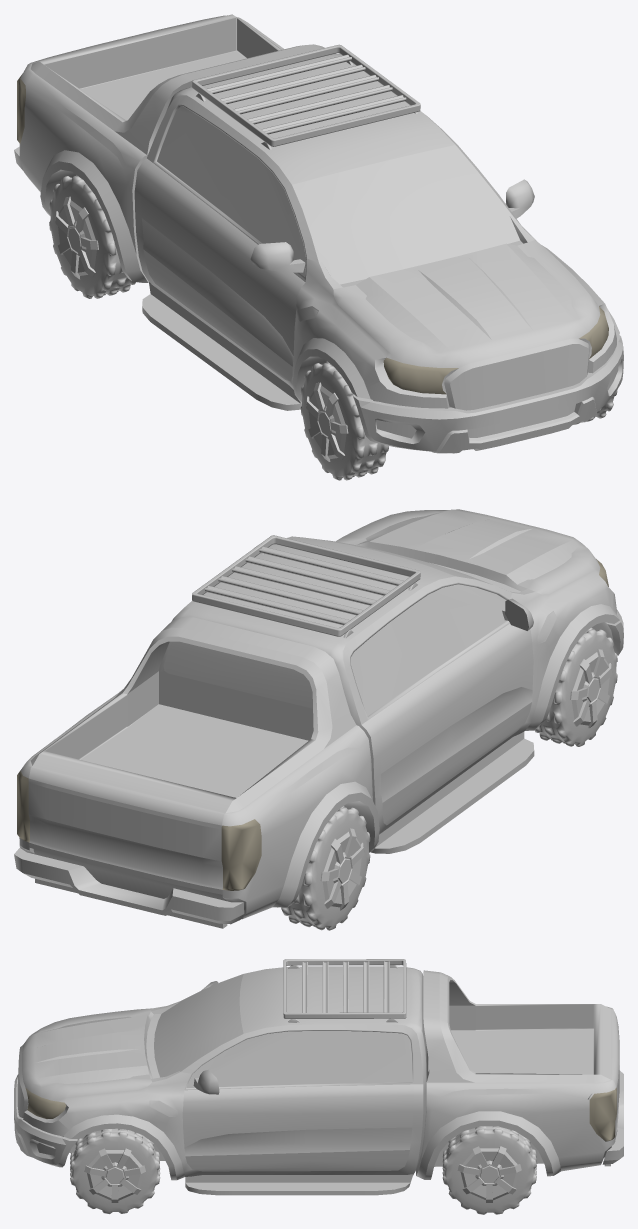
Rendered from traffic-Ford.obj.
3 views of the same model, one above another, from view 1: azimuth 30°, elevation 25°; view 2: azimuth 150°, elevation 25°; view 3: azimuth 270°, elevation 25° (orthographic). The views are drawn at different scales.
Visible parts, largest first — view 1: Body_Ford_Raptor_BASE__0, Front_bumper_Ford_Raptor_BASE__0.002, Extra_Cylinder.001, Rear_Right_Wheel_Plane.001, Front_Right_Wheel_Plane.003, Front_light_Ford_Raptor_BASE__0.006; view 2: Body_Ford_Raptor_BASE__0, Extra_Cylinder.001, Rear_Right_Wheel_Plane.001, Front_Right_Wheel_Plane.003, Rear_Bumper_Ford_Raptor_BASE__0.001, Rear_light_Ford_Raptor_BASE__0.007, Front_bumper_Ford_Raptor_BASE__0.002; view 3: Body_Ford_Raptor_BASE__0, Rear_Left_Wheel_Plane.002, Front_Left_Wheel_Plane.006, Extra_Cylinder.001, Front_bumper_Ford_Raptor_BASE__0.002, Rear_light_Ford_Raptor_BASE__0.007, Rear_Bumper_Ford_Raptor_BASE__0.001, Front_light_Ford_Raptor_BASE__0.006.
Part boxes in pixels (x1,y1,x2,y2): Body_Ford_Raptor_BASE__0: (19,14,619,410); Front_bumper_Ford_Raptor_BASE__0.002: (353,335,623,453); Extra_Cylinder.001: (192,44,420,149); Rear_Right_Wheel_Plane.001: (49,174,135,298); Front_Right_Wheel_Plane.003: (300,361,388,480); Front_light_Ford_Raptor_BASE__0.006: (383,306,608,394); Body_Ford_Raptor_BASE__0: (19,509,619,919); Extra_Cylinder.001: (192,535,420,638); Rear_Right_Wheel_Plane.001: (281,806,370,930); Front_Right_Wheel_Plane.003: (534,627,617,746); Rear_Bumper_Ford_Raptor_BASE__0.001: (14,848,244,928); Rear_light_Ford_Raptor_BASE__0.007: (17,771,261,890); Front_bumper_Ford_Raptor_BASE__0.002: (591,609,623,655); Body_Ford_Raptor_BASE__0: (17,966,619,1195); Rear_Left_Wheel_Plane.002: (442,1126,536,1214); Front_Left_Wheel_Plane.006: (70,1128,160,1214); Extra_Cylinder.001: (283,959,406,1022); Front_bumper_Ford_Raptor_BASE__0.002: (14,1074,77,1167); Rear_light_Ford_Raptor_BASE__0.007: (588,1087,616,1141); Rear_Bumper_Ford_Raptor_BASE__0.001: (602,1070,623,1166); Front_light_Ford_Raptor_BASE__0.006: (25,1088,66,1118).
Size of the model in its own units: 2.26 by 1.87 by 5.69.
